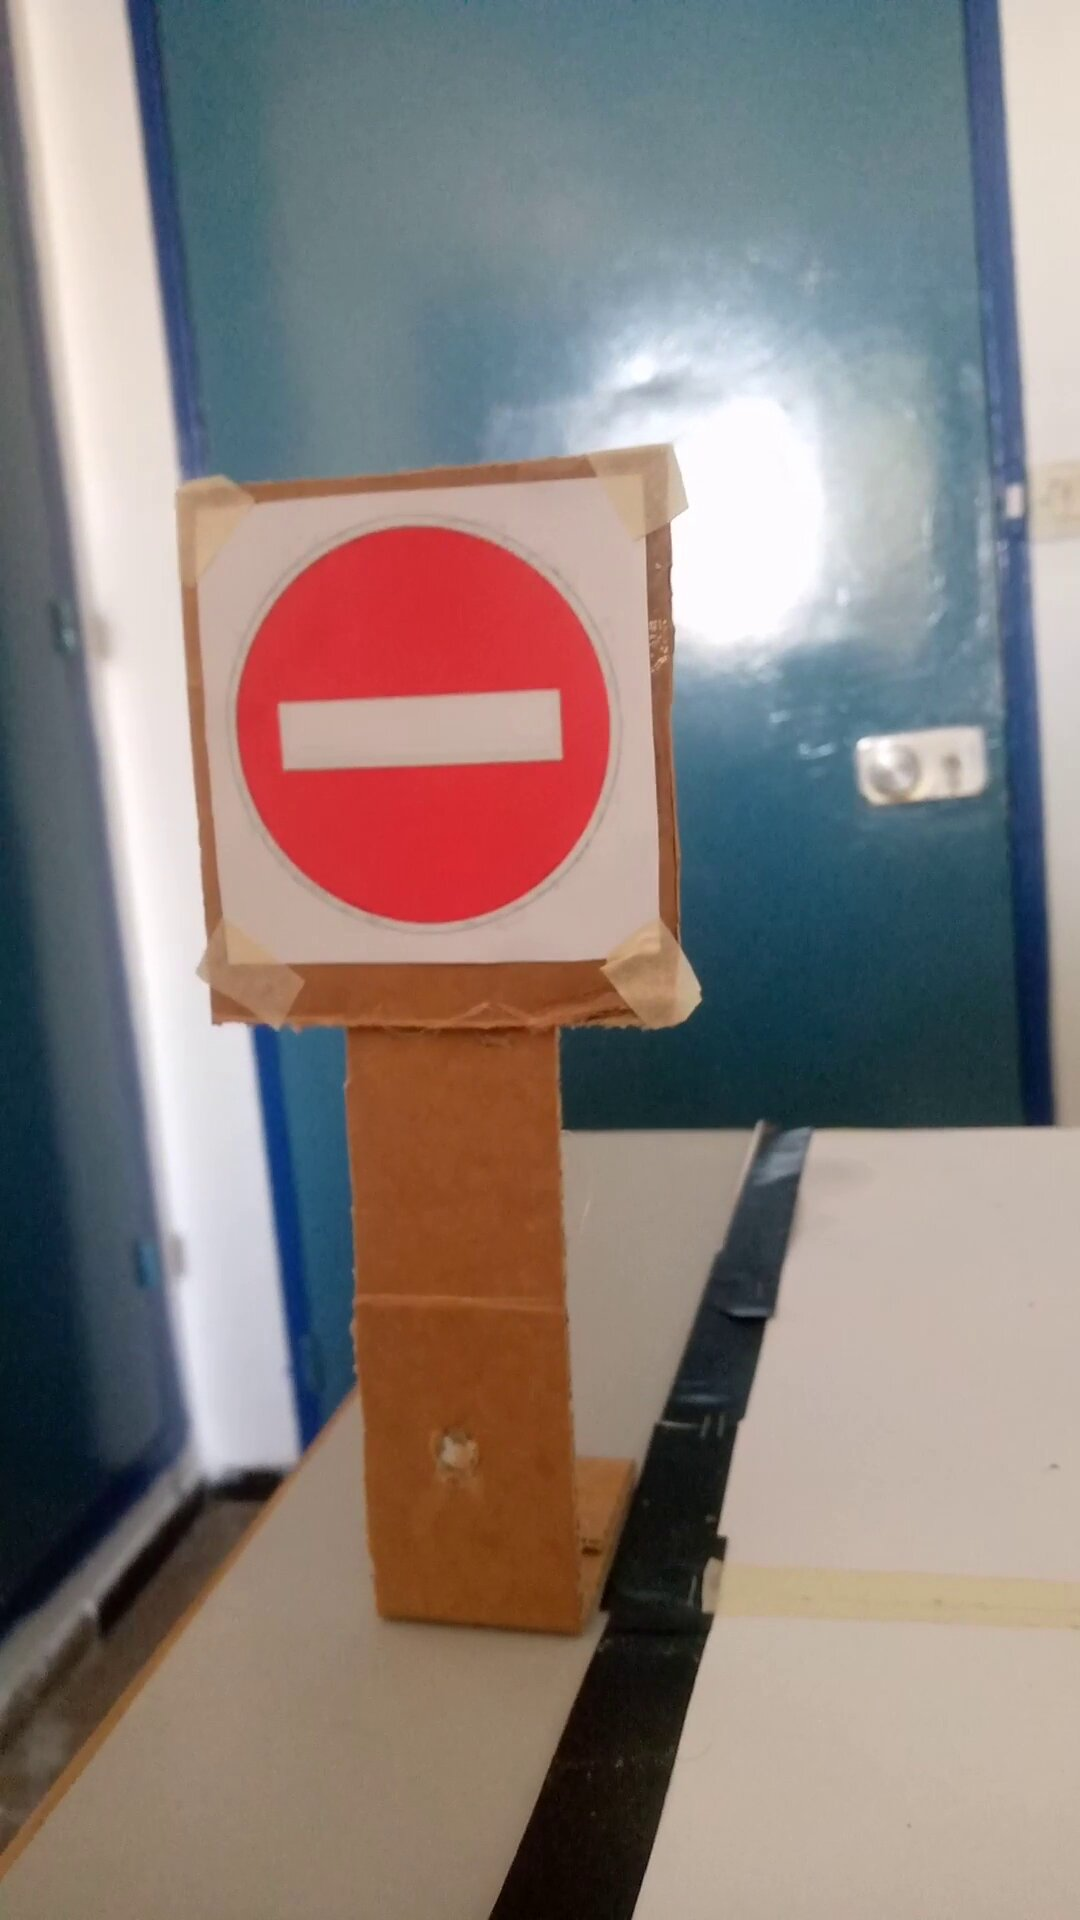panel010: (187, 483, 667, 977)
